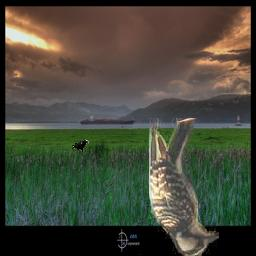Crow: (71, 140, 89, 153)
Woodpecker: (149, 118, 219, 256)
